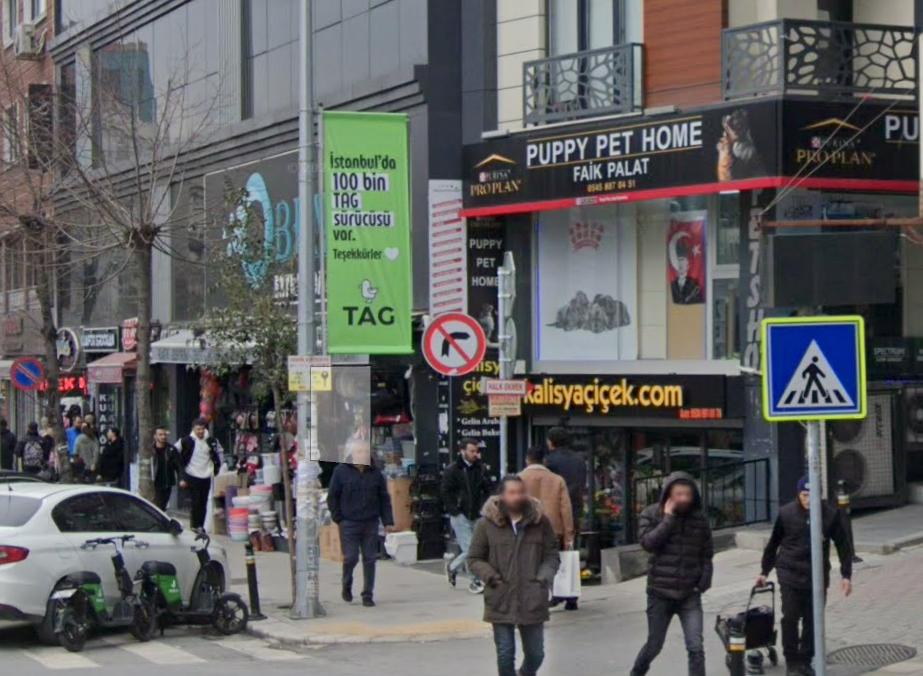nopark: (12, 355, 45, 390)
rightturnsareforbidden: (425, 314, 484, 374)
